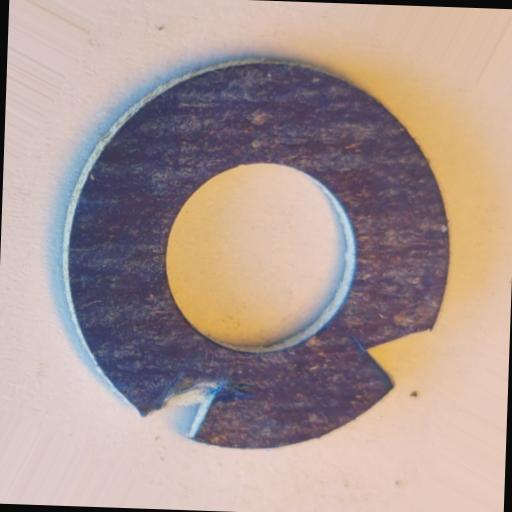defect: (141, 374, 256, 442), (352, 322, 432, 392)
